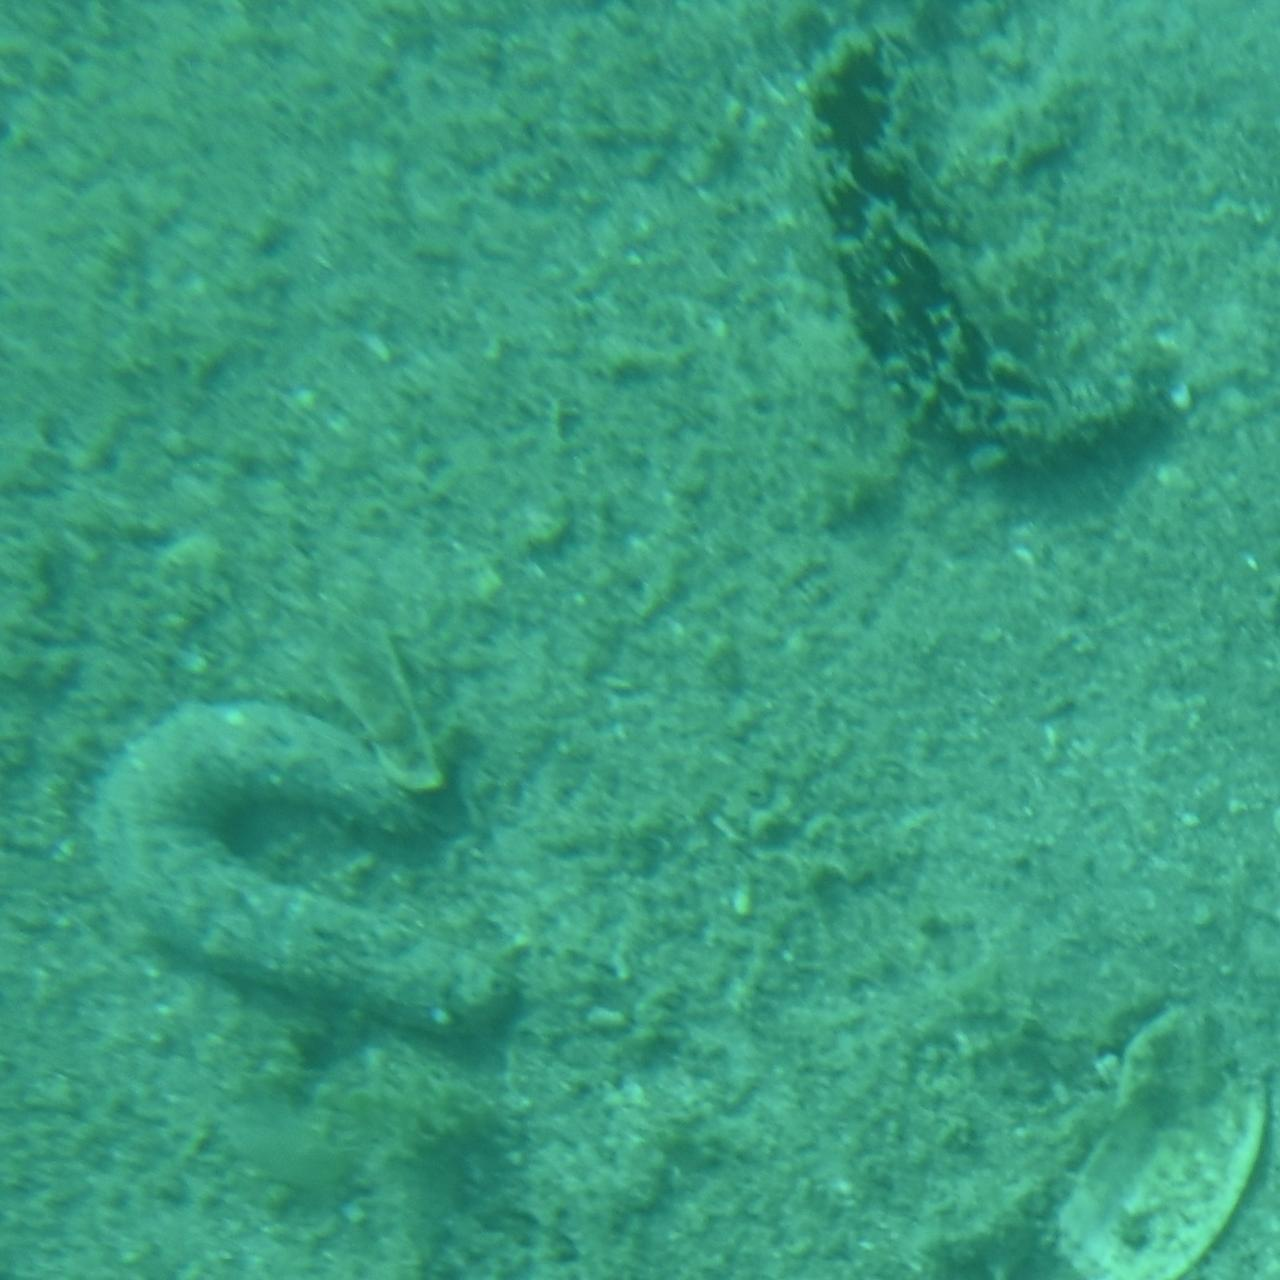Holothuria tubulosa: (790, 1, 1200, 495), (60, 697, 512, 1042)
